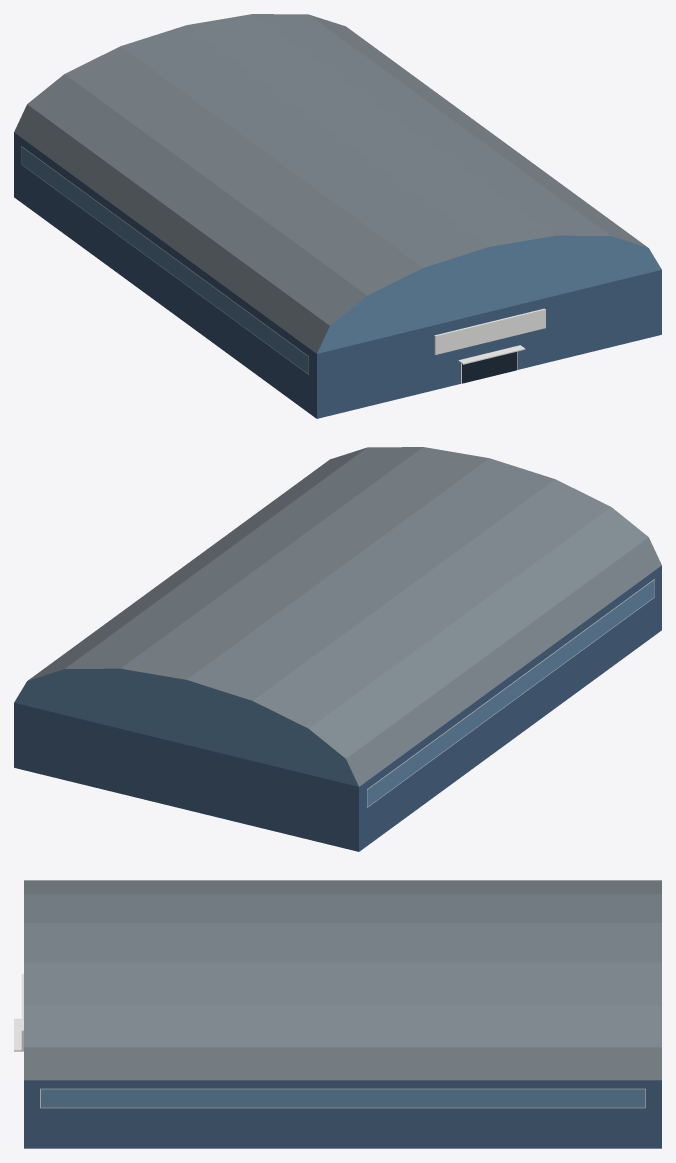
Rendered from patinoire.glb.
3 views of the same model, one above another, from view 1: azimuth 30°, elevation 25°; view 2: azimuth 150°, elevation 25°; view 3: azimuth 270°, elevation 25° (orthographic). The views are drawn at different scales.
Visible parts, largest first — view 1: patinoire; view 2: patinoire; view 3: patinoire.
Boxes of the visible parts, box(x1,y1,x2,y2) form: patinoire: box(14, 14, 661, 418); patinoire: box(14, 447, 661, 851); patinoire: box(14, 880, 661, 1148).
Bounding box in the file's own units: 50.1 × 18 × 77.2.
Materials: 1 (1 with a texture image).
